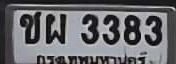3: (80, 12, 98, 42), (102, 14, 119, 44), (144, 14, 161, 44)
8: (123, 14, 140, 44)
A10: (19, 10, 41, 43)
A28: (45, 13, 65, 43)
